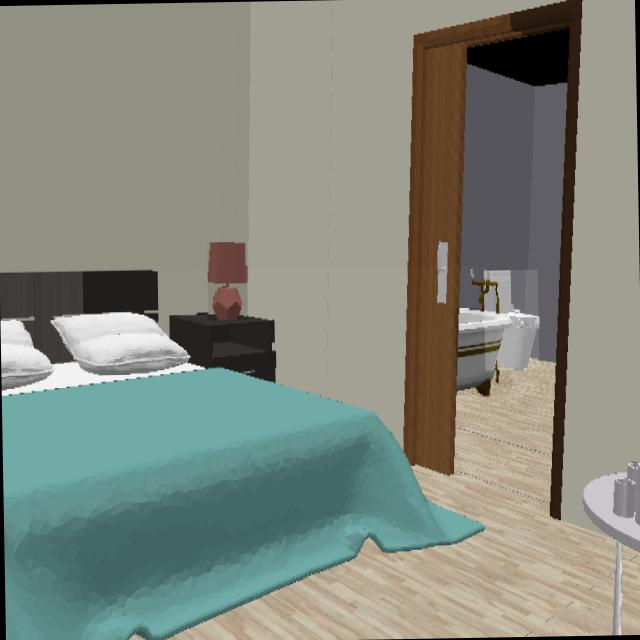bathtube: (456, 309, 510, 394)
bed: (0, 271, 482, 640)
lamp: (208, 242, 246, 320)
nighttable: (170, 313, 273, 381)
toilet: (484, 270, 537, 369), (484, 287, 497, 312)
